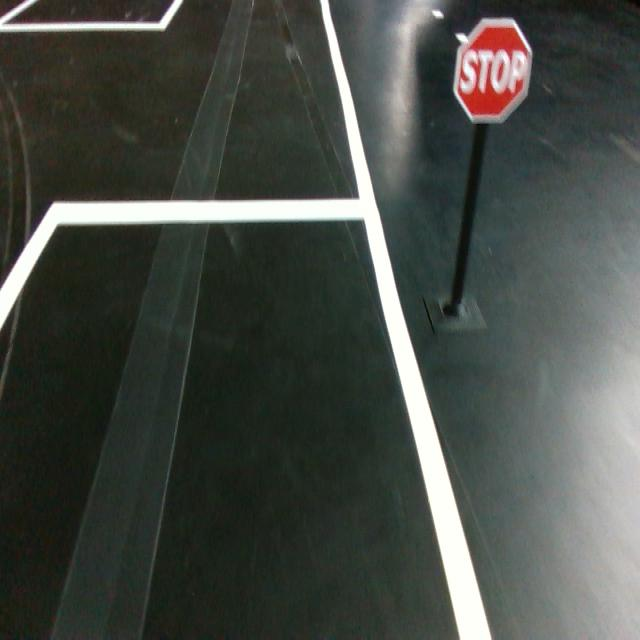stop-sign: (451, 17, 534, 125)
